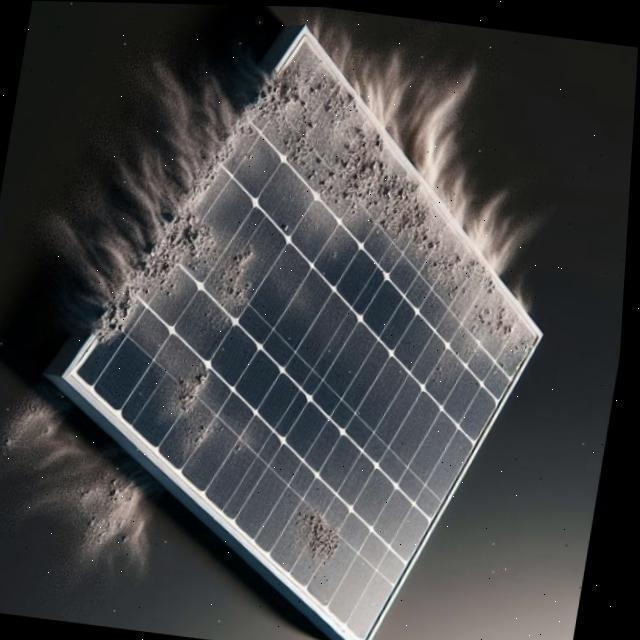Anomaly Solar Panel: (41, 29, 629, 640)
Surface Contaminant: (31, 33, 555, 567), (288, 501, 359, 569)
